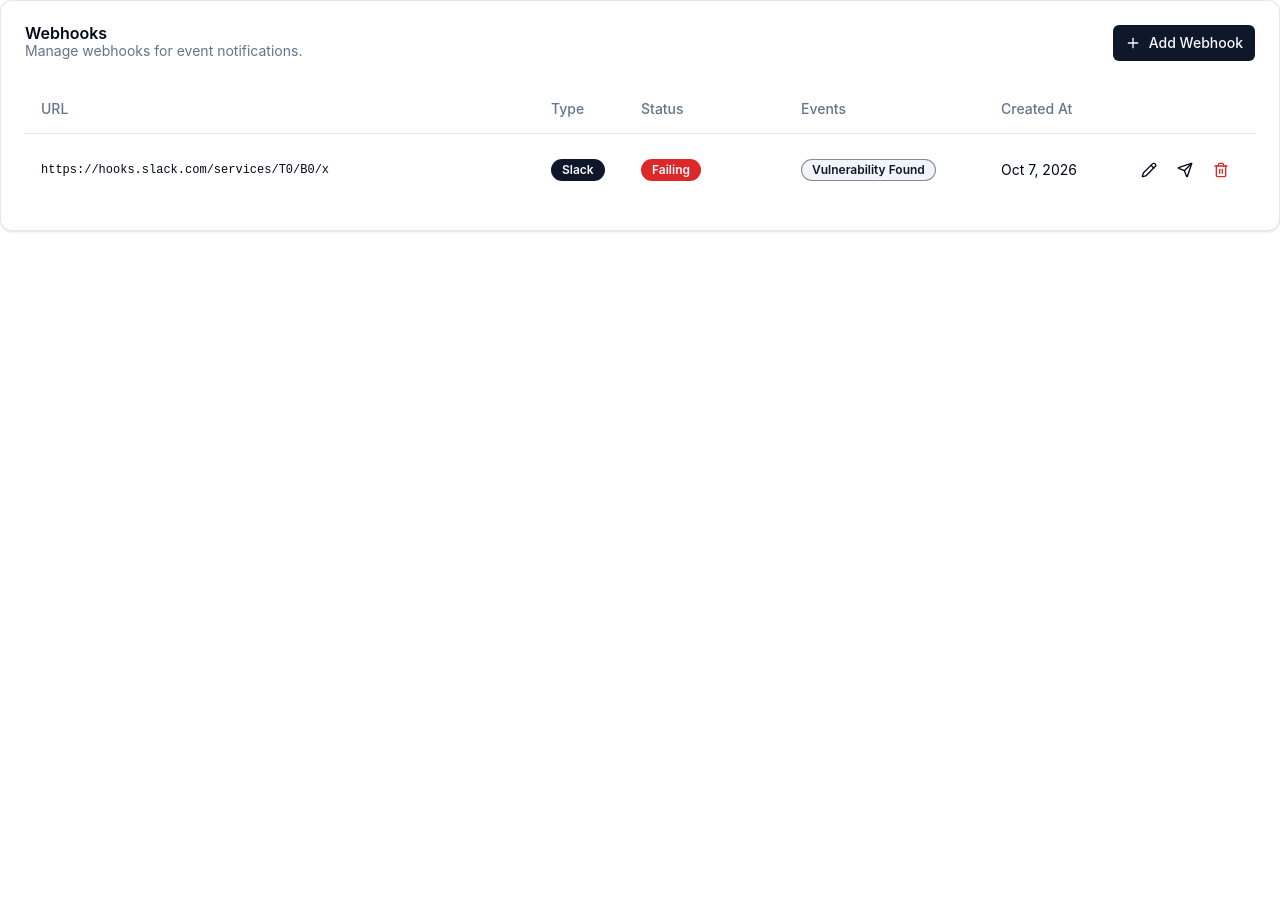
Test: WebhookManager › deletes a webhook from its named Delete button once confirmed in a dialog naming its URL in bold, like the user deletion
Step 1. Click the button named "Delete webhook" → (1221, 170), box [1203, 150, 1239, 190]
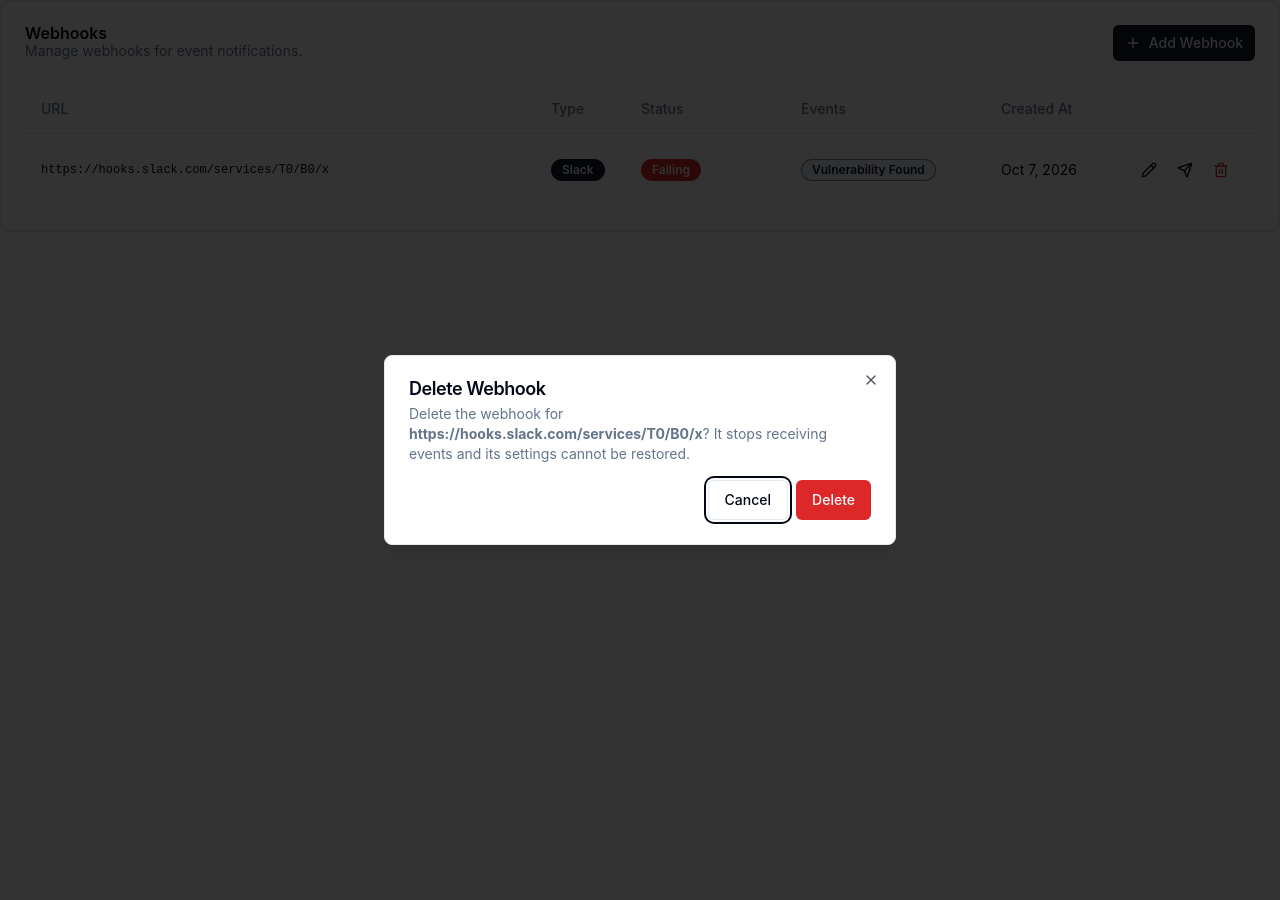
Now the text "https://hooks.slack.com/services/T0/B0/x" is shown, box [409, 425, 702, 442]
Step 2. Click the button "Delete" → (834, 500), box [796, 480, 871, 520]
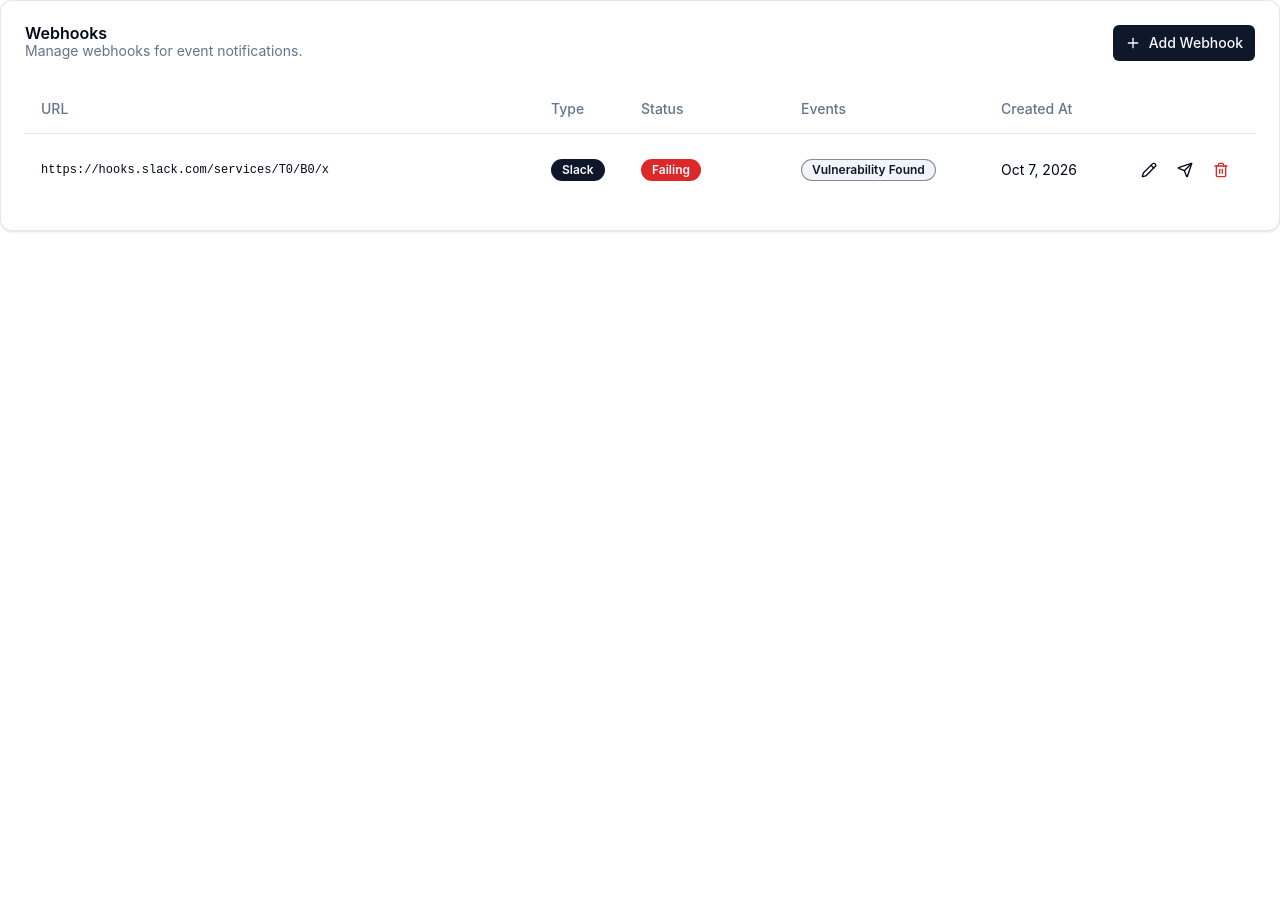
Now the dialog is gone
